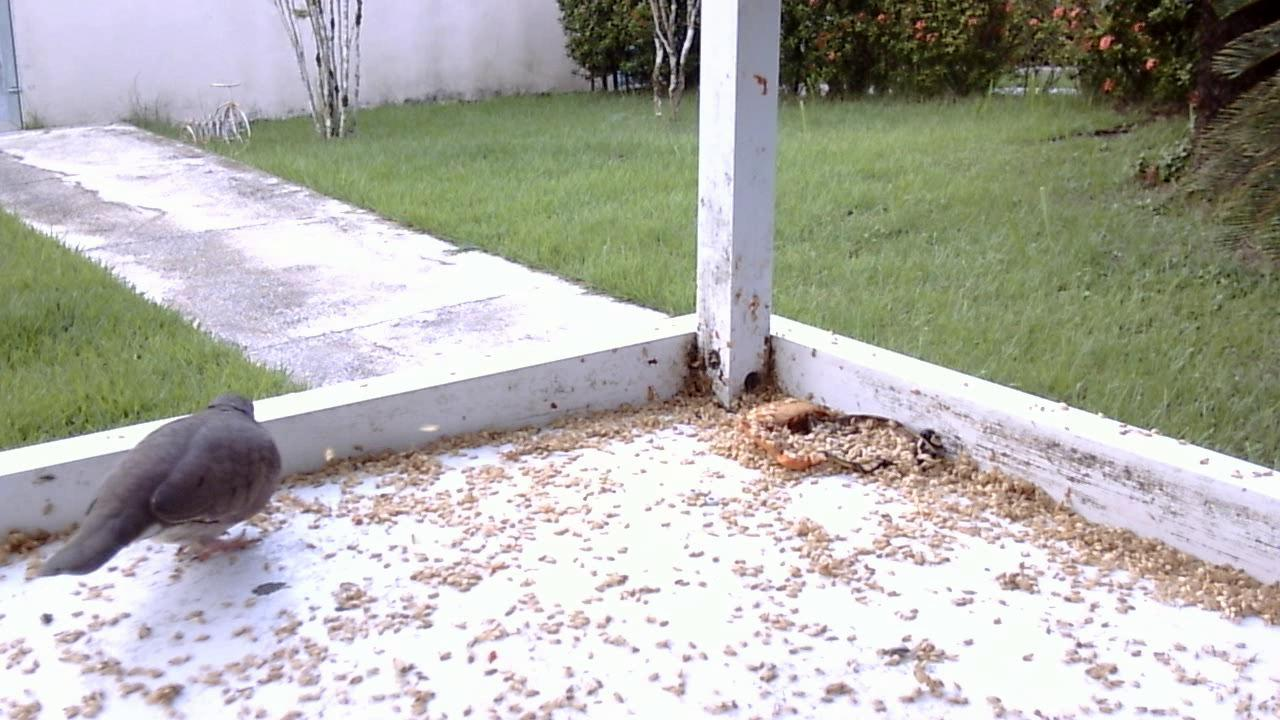rolinha: (17, 385, 299, 592)
